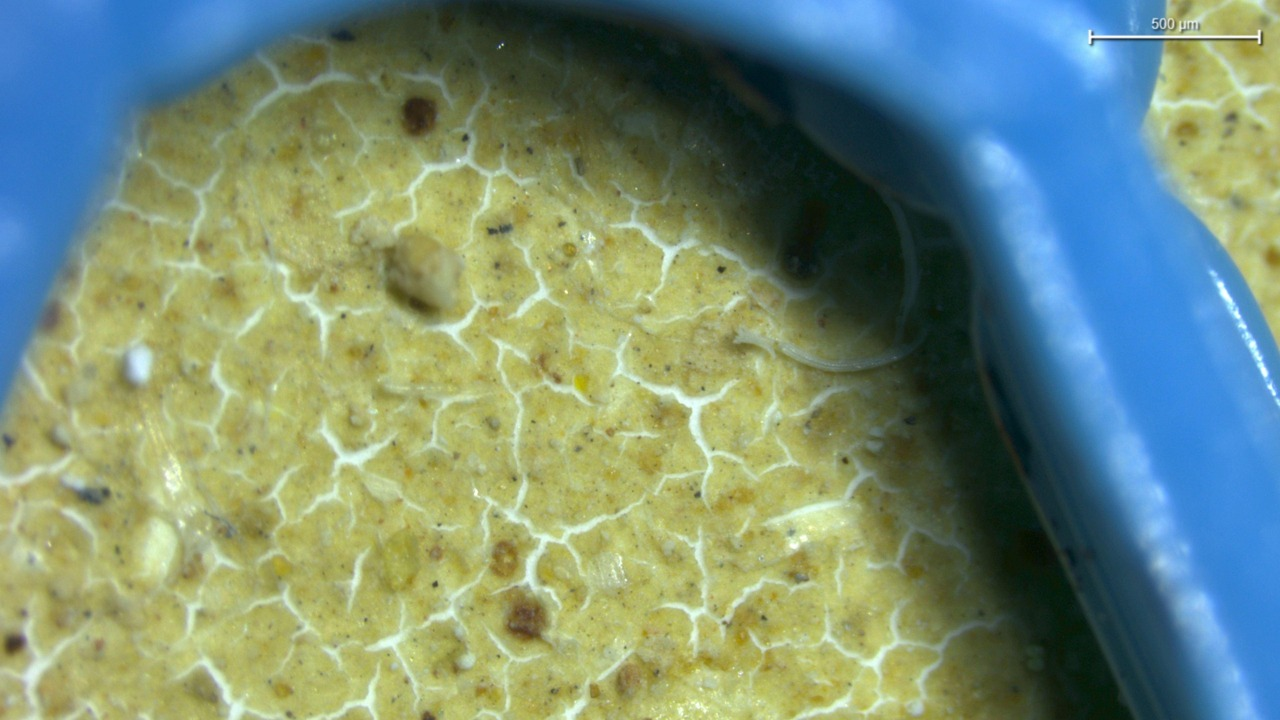microplastic_fragment: (386, 235, 463, 312), (124, 345, 152, 386)
